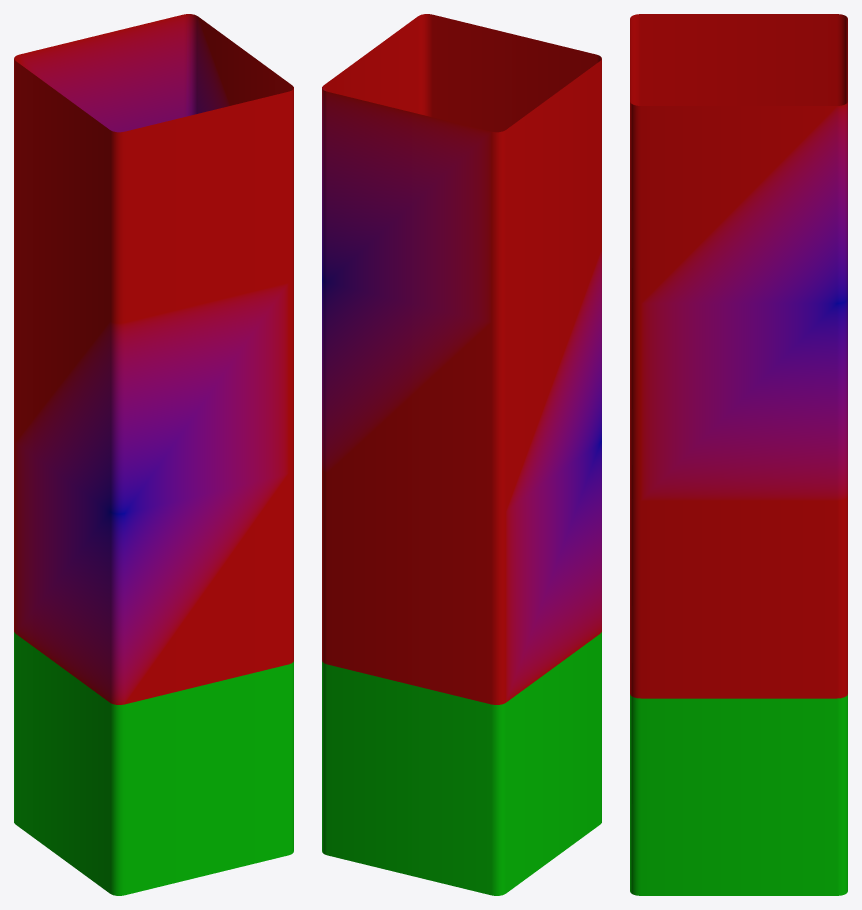
Rendered from ColumnA_8.fbx.
3 renders of one model, left to right at view 1: azimuth 30°, elevation 25°; view 2: azimuth 150°, elevation 25°; view 3: azimuth 270°, elevation 25°, orthographic. The views are drawn at different scales.
Parts seen in each view (by area): view 1: ColumnA; view 2: ColumnA; view 3: ColumnA.
Part boxes in pixels (box(x1,y1,x2,y2)): ColumnA: box(14, 14, 293, 895); ColumnA: box(322, 14, 601, 895); ColumnA: box(630, 14, 847, 895).
Size of the model in its own units: 200 by 800 by 200.
